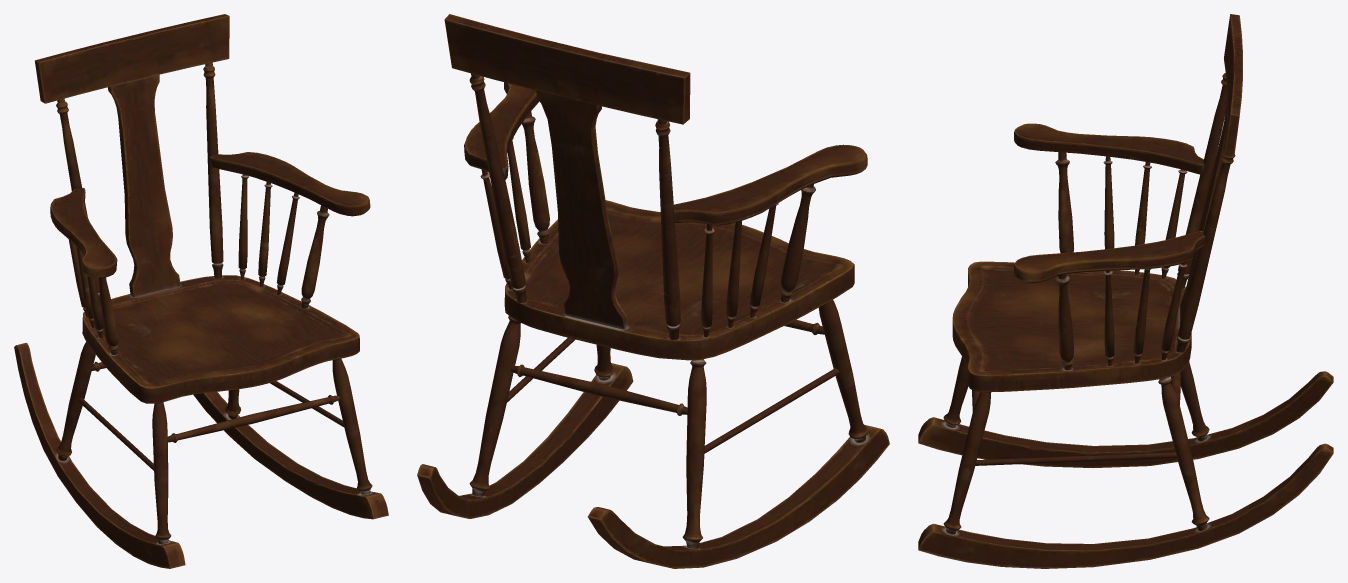
Rendered from Rockingchair_01.glb.
The picture shows the model from 3 angles, left to right: view 1: azimuth 30°, elevation 25°; view 2: azimuth 150°, elevation 25°; view 3: azimuth 270°, elevation 25°; orthographic projection. The views are drawn at different scales.
Parts seen in each view (by area): view 1: Rockingchair_01; view 2: Rockingchair_01; view 3: Rockingchair_01.
Boxes of the visible parts, left/top/right/bottom form: Rockingchair_01: left=14, top=14, right=388, bottom=568; Rockingchair_01: left=417, top=14, right=889, bottom=568; Rockingchair_01: left=918, top=14, right=1333, bottom=568.
Bounding box in the file's own units: 0.7081 × 0.9949 × 0.8335.
1 material, 1 textured.
